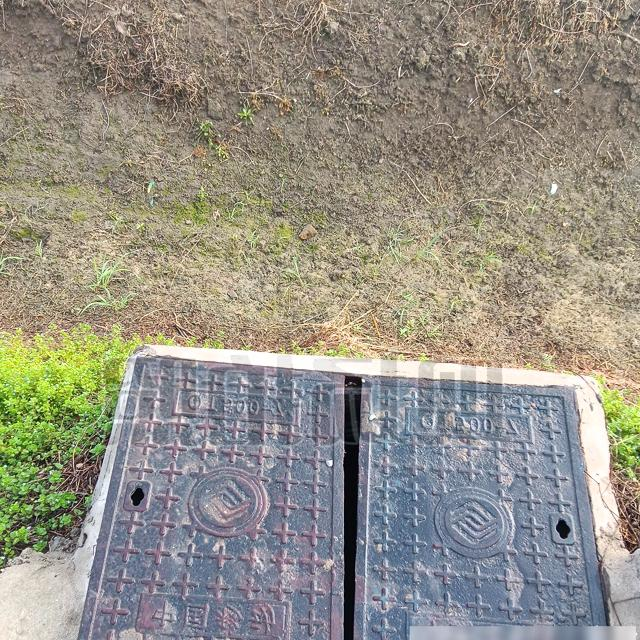uncovered: (55, 372, 610, 640)
